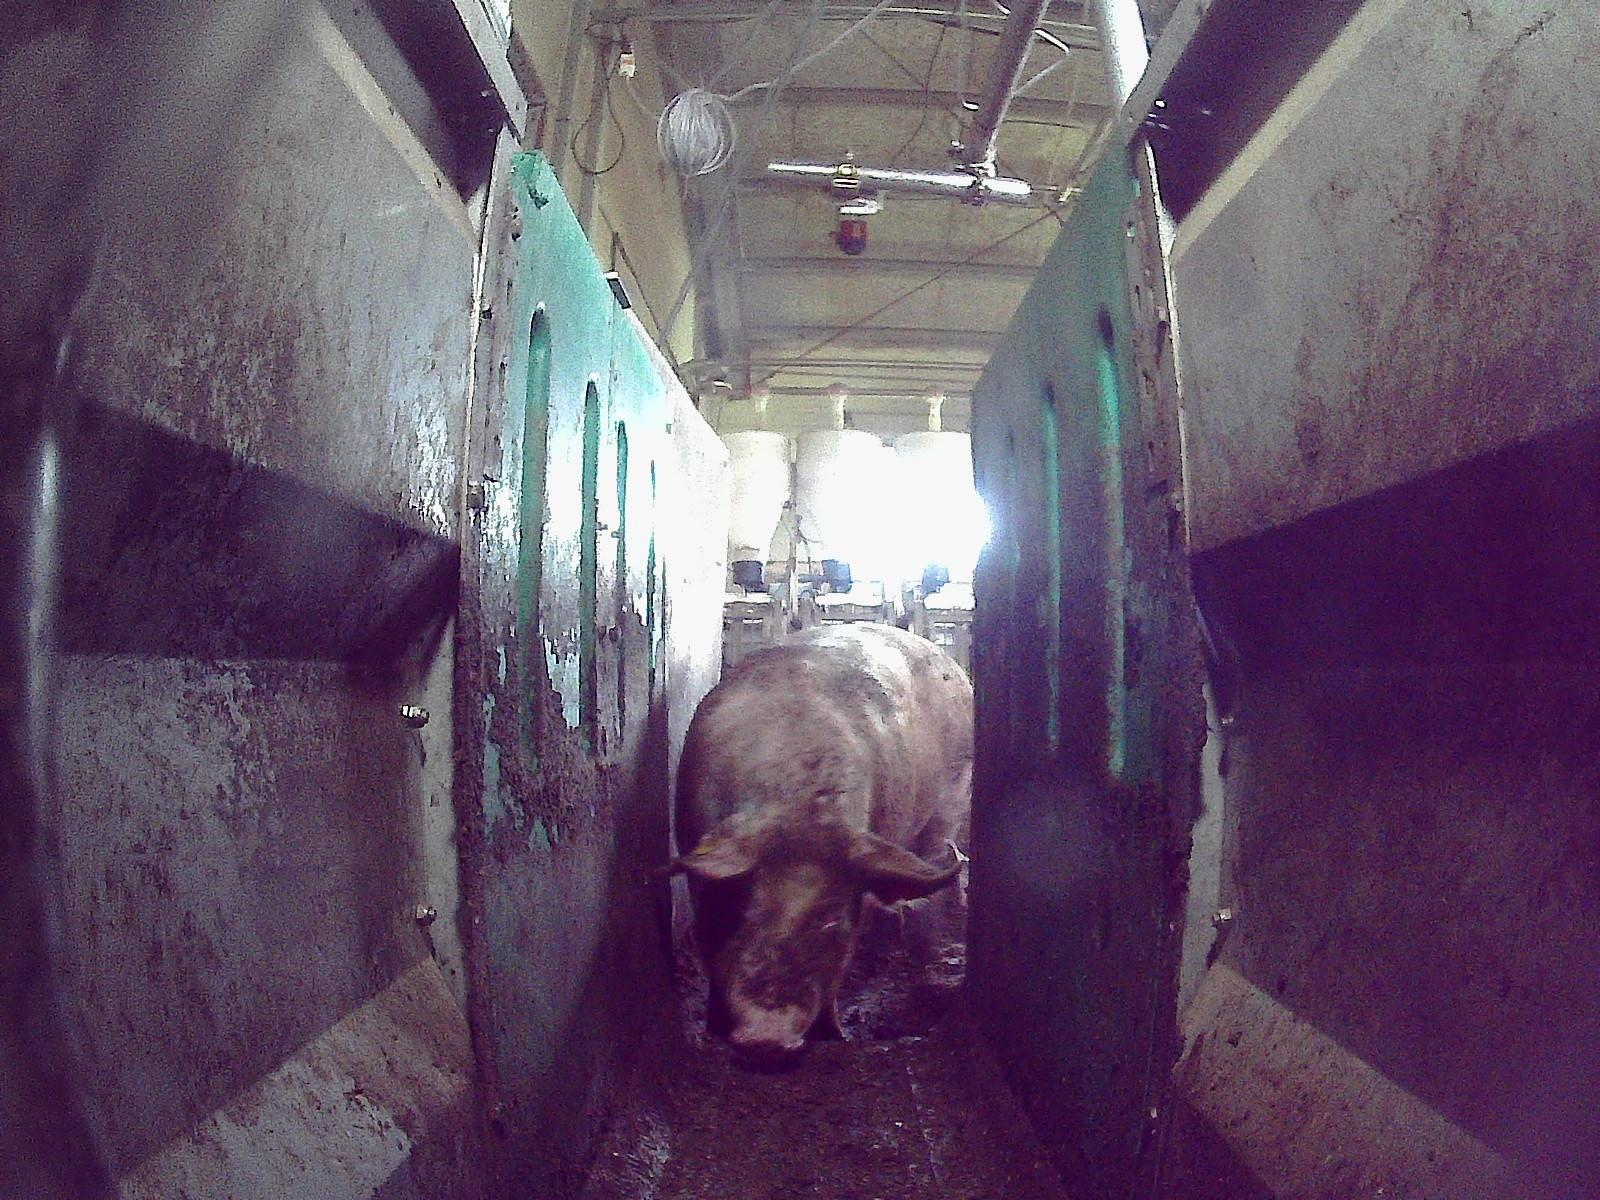Face: (691, 813, 881, 1059)
